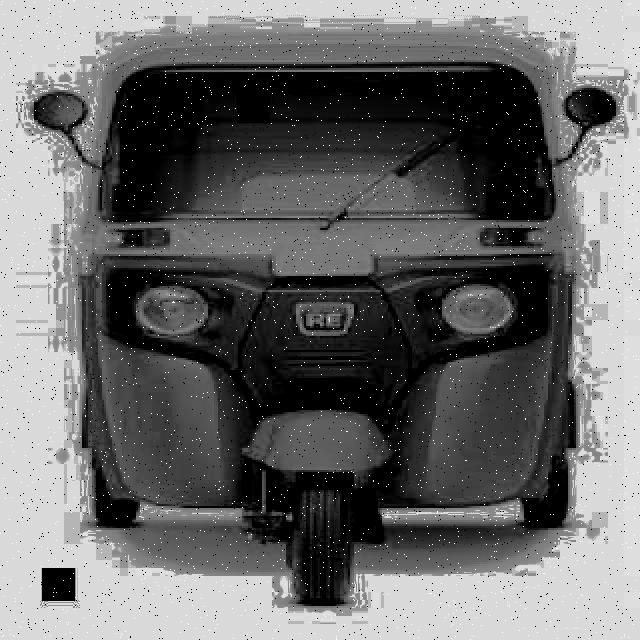Auto-Rickshaw: (32, 24, 616, 620)
